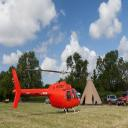helicopter: (11, 57, 83, 119)
